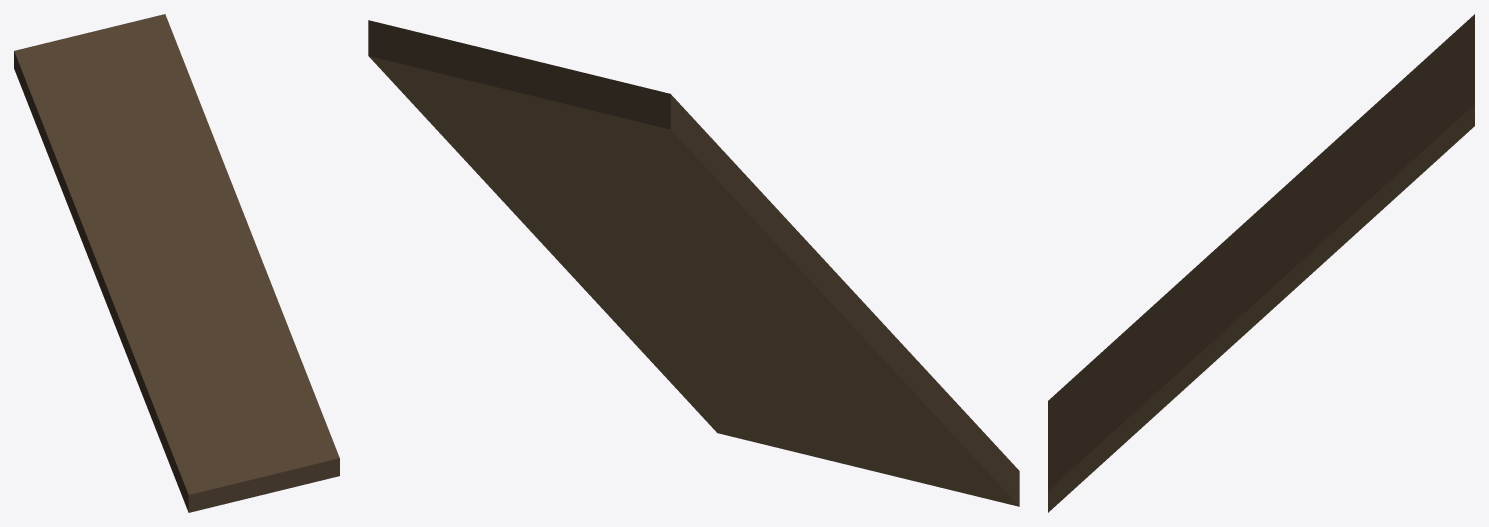
The model's file is dach_1x2.glb.
3 views of the same model, side by side, from view 1: azimuth 30°, elevation 25°; view 2: azimuth 150°, elevation 25°; view 3: azimuth 270°, elevation 25° (orthographic). The views are drawn at different scales.
Parts seen in each view (by area): view 1: dach_1x2; view 2: dach_1x2; view 3: dach_1x2.
Part boxes in pixels (bbox=[...]): dach_1x2: bbox=[14, 14, 339, 512]; dach_1x2: bbox=[368, 20, 1019, 506]; dach_1x2: bbox=[1048, 14, 1474, 512].
Size of the model in its own units: 1 by 2.11 by 2.
